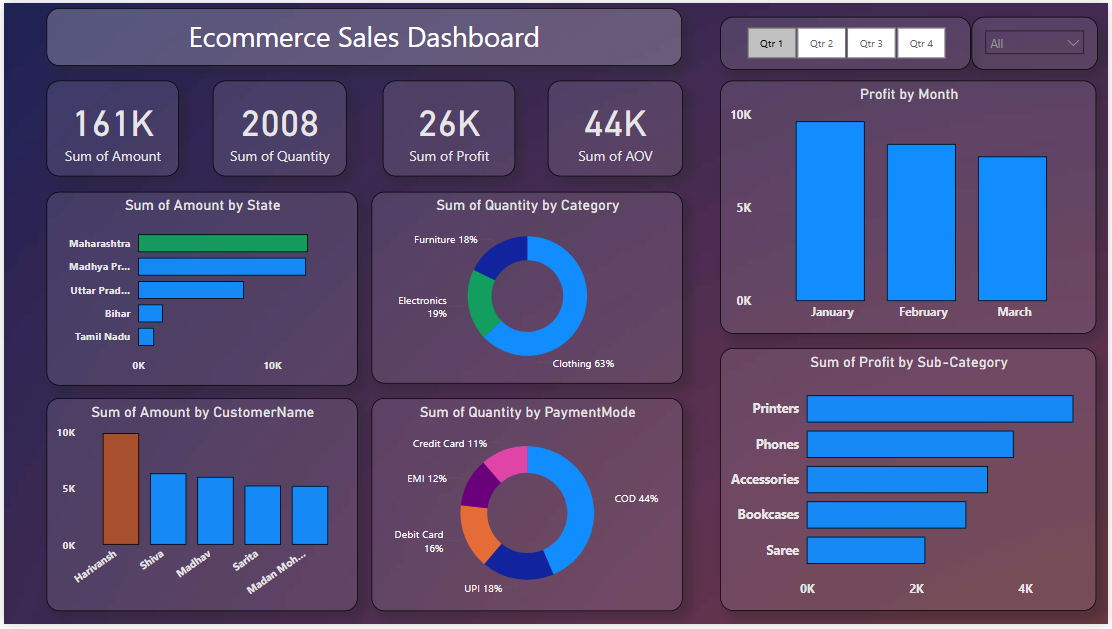

The dashboard page shown, as its layout file describes it:
{"tool":"powerbi","page":{"name":"Page 1","canvas":[1280,720],"ordinal":0},"visuals":[{"type":"columnChart","title":"Profit by Month","fields":{"Category":["Orders.Order Date.Variation.Date Hierarchy.Month"],"Y":["Details.Profit"]},"box":[830.2,90.6,436.4,293.7],"z":0},{"type":"barChart","fields":{"Category":["Details.Sub-Category"],"Y":["Details.Profit"]},"box":[830.2,400.7,436.4,304.6],"z":1000},{"type":"donutChart","fields":{"Category":["Details.Category"],"Y":["Details.Quantity"]},"box":[425.4,218.2,360.9,222.3],"z":2000},{"type":"donutChart","fields":{"Y":["Details.Quantity"],"Category":["Details.PaymentMode"]},"box":[425.4,458.3,360.9,247],"z":3000},{"type":"card","fields":{"Values":["Details.Amount"]},"box":[49.4,90.6,153.7,111.1],"z":4000},{"type":"card","fields":{"Values":["Details.Quantity"]},"box":[241.5,90.6,155.1,111.1],"z":5000},{"type":"card","fields":{"Values":["Details.Profit"]},"box":[439.1,90.6,153.7,111.1],"z":6000},{"type":"card","fields":{"Values":["Details.sumofavg"]},"box":[629.8,90.6,156.4,111.1],"z":7000},{"type":"barChart","fields":{"Category":["Orders.State"],"Y":["Details.Amount"]},"box":[49.4,218.2,360.9,225],"z":8000},{"type":"columnChart","fields":{"Category":["Orders.CustomerName"],"Y":["Details.Amount"]},"box":[49.4,458.3,360.9,247],"z":9000},{"type":"textbox","box":[49.4,5.5,736.9,67.2],"z":10000},{"type":"slicer","fields":{"Values":["Orders.Order Date.Variation.Date Hierarchy.Quarter"]},"box":[830.7,16,290.8,61.4],"z":10001},{"type":"slicer","fields":{"Values":["Orders.City"]},"box":[1121.5,16,146,61.4],"z":10002}]}

Visuals, with their boxes in screenshot pixels (x1, y1, x2, y2), scaled from the page's 1280x720 canvas onto the 1112x629 screenshot:
"Profit by Month" columnChart: x1=721 y1=79 x2=1100 y2=336
barChart - Details.Sub-Category x Details.Profit: x1=721 y1=350 x2=1100 y2=616
donutChart - Details.Category x Details.Quantity: x1=370 y1=191 x2=683 y2=385
donutChart - Details.Quantity x Details.PaymentMode: x1=370 y1=400 x2=683 y2=616
card - Details.Amount: x1=43 y1=79 x2=176 y2=176
card - Details.Quantity: x1=210 y1=79 x2=345 y2=176
card - Details.Profit: x1=381 y1=79 x2=515 y2=176
card - Details.sumofavg: x1=547 y1=79 x2=683 y2=176
barChart - Orders.State x Details.Amount: x1=43 y1=191 x2=356 y2=387
columnChart - Orders.CustomerName x Details.Amount: x1=43 y1=400 x2=356 y2=616
textbox: x1=43 y1=5 x2=683 y2=64
slicer - Orders.Order Date.Variation.Date Hierarchy.Quarter: x1=722 y1=14 x2=974 y2=68
slicer - Orders.City: x1=974 y1=14 x2=1101 y2=68
